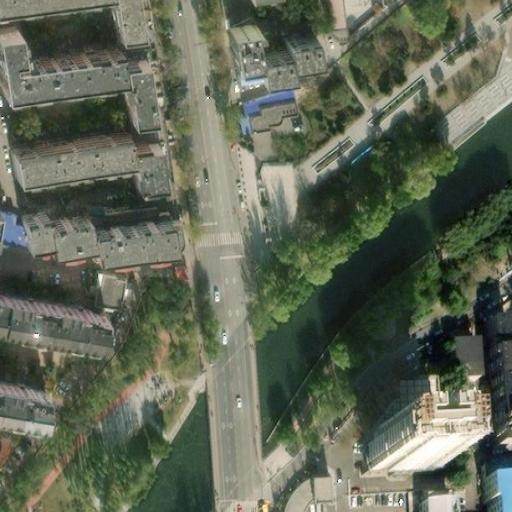building: (1, 124, 154, 183), (0, 23, 114, 88), (13, 206, 168, 253), (222, 16, 313, 74), (361, 390, 435, 449), (258, 157, 306, 231), (362, 441, 436, 481), (0, 375, 48, 423), (489, 365, 512, 463), (111, 52, 145, 114), (273, 471, 322, 512), (234, 90, 288, 123), (448, 332, 484, 380), (95, 271, 127, 310), (481, 480, 512, 512), (250, 125, 278, 158), (488, 330, 512, 365), (419, 494, 454, 512), (0, 430, 14, 467)
